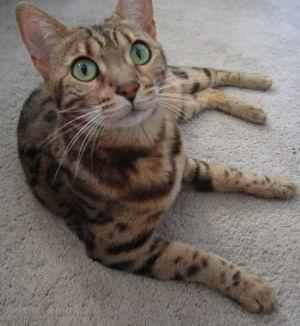bengal: (7, 1, 174, 129)
